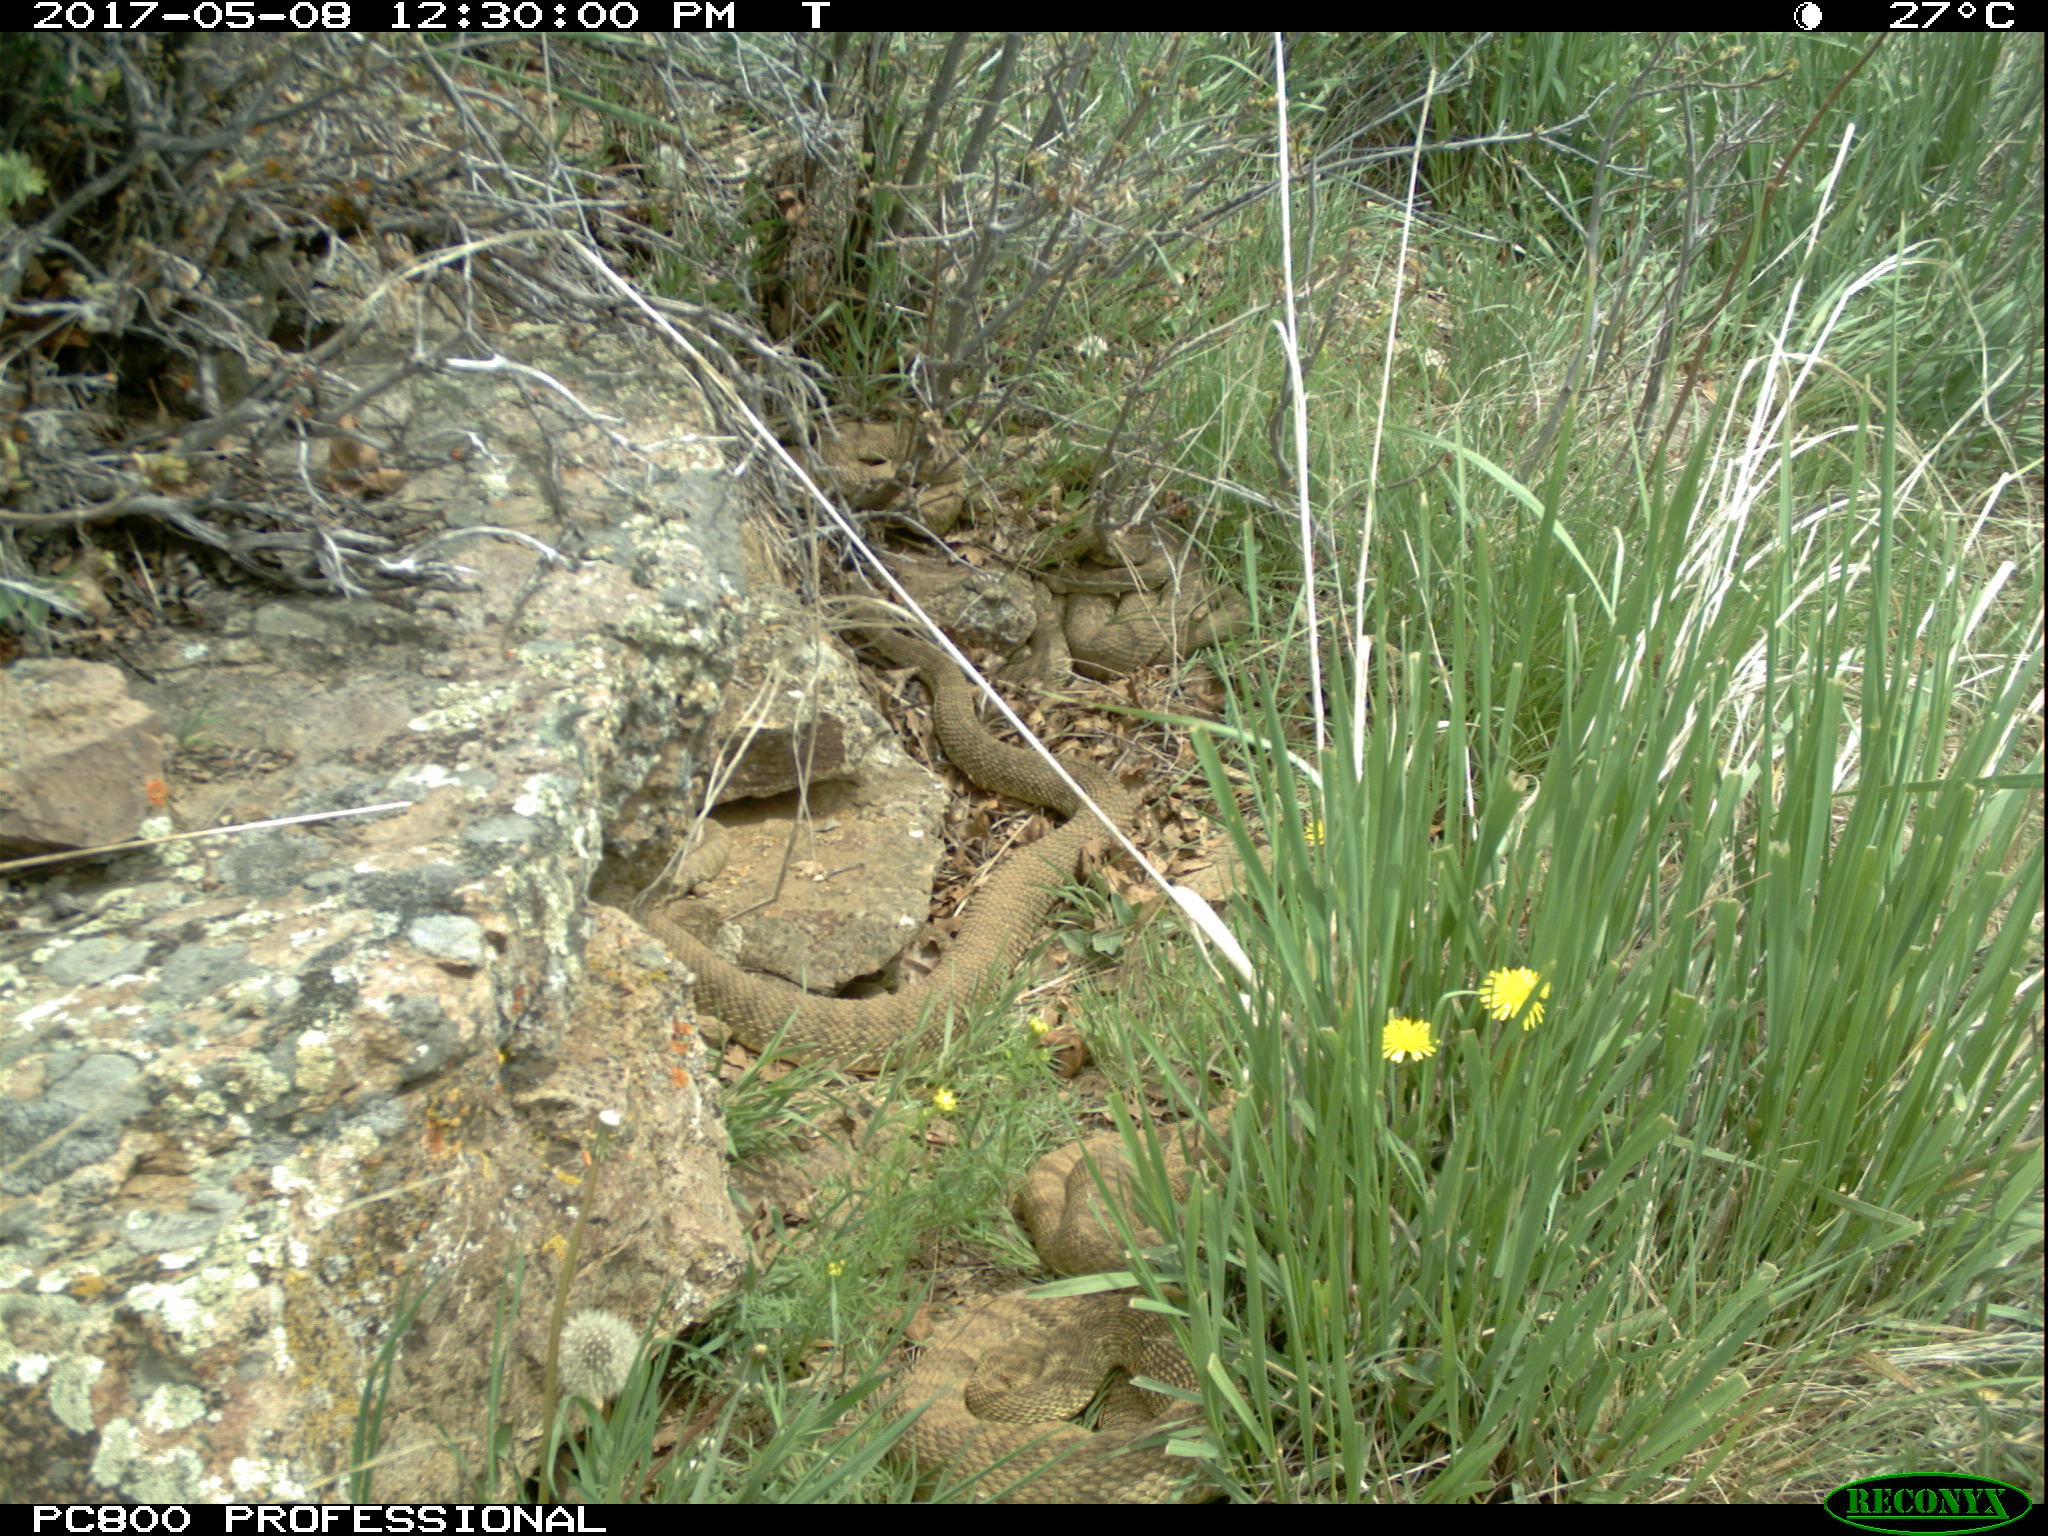snake: (884, 1278, 1229, 1505), (871, 623, 1137, 886), (622, 894, 997, 1065), (1018, 1096, 1256, 1267), (1034, 528, 1259, 671), (806, 408, 977, 541)
